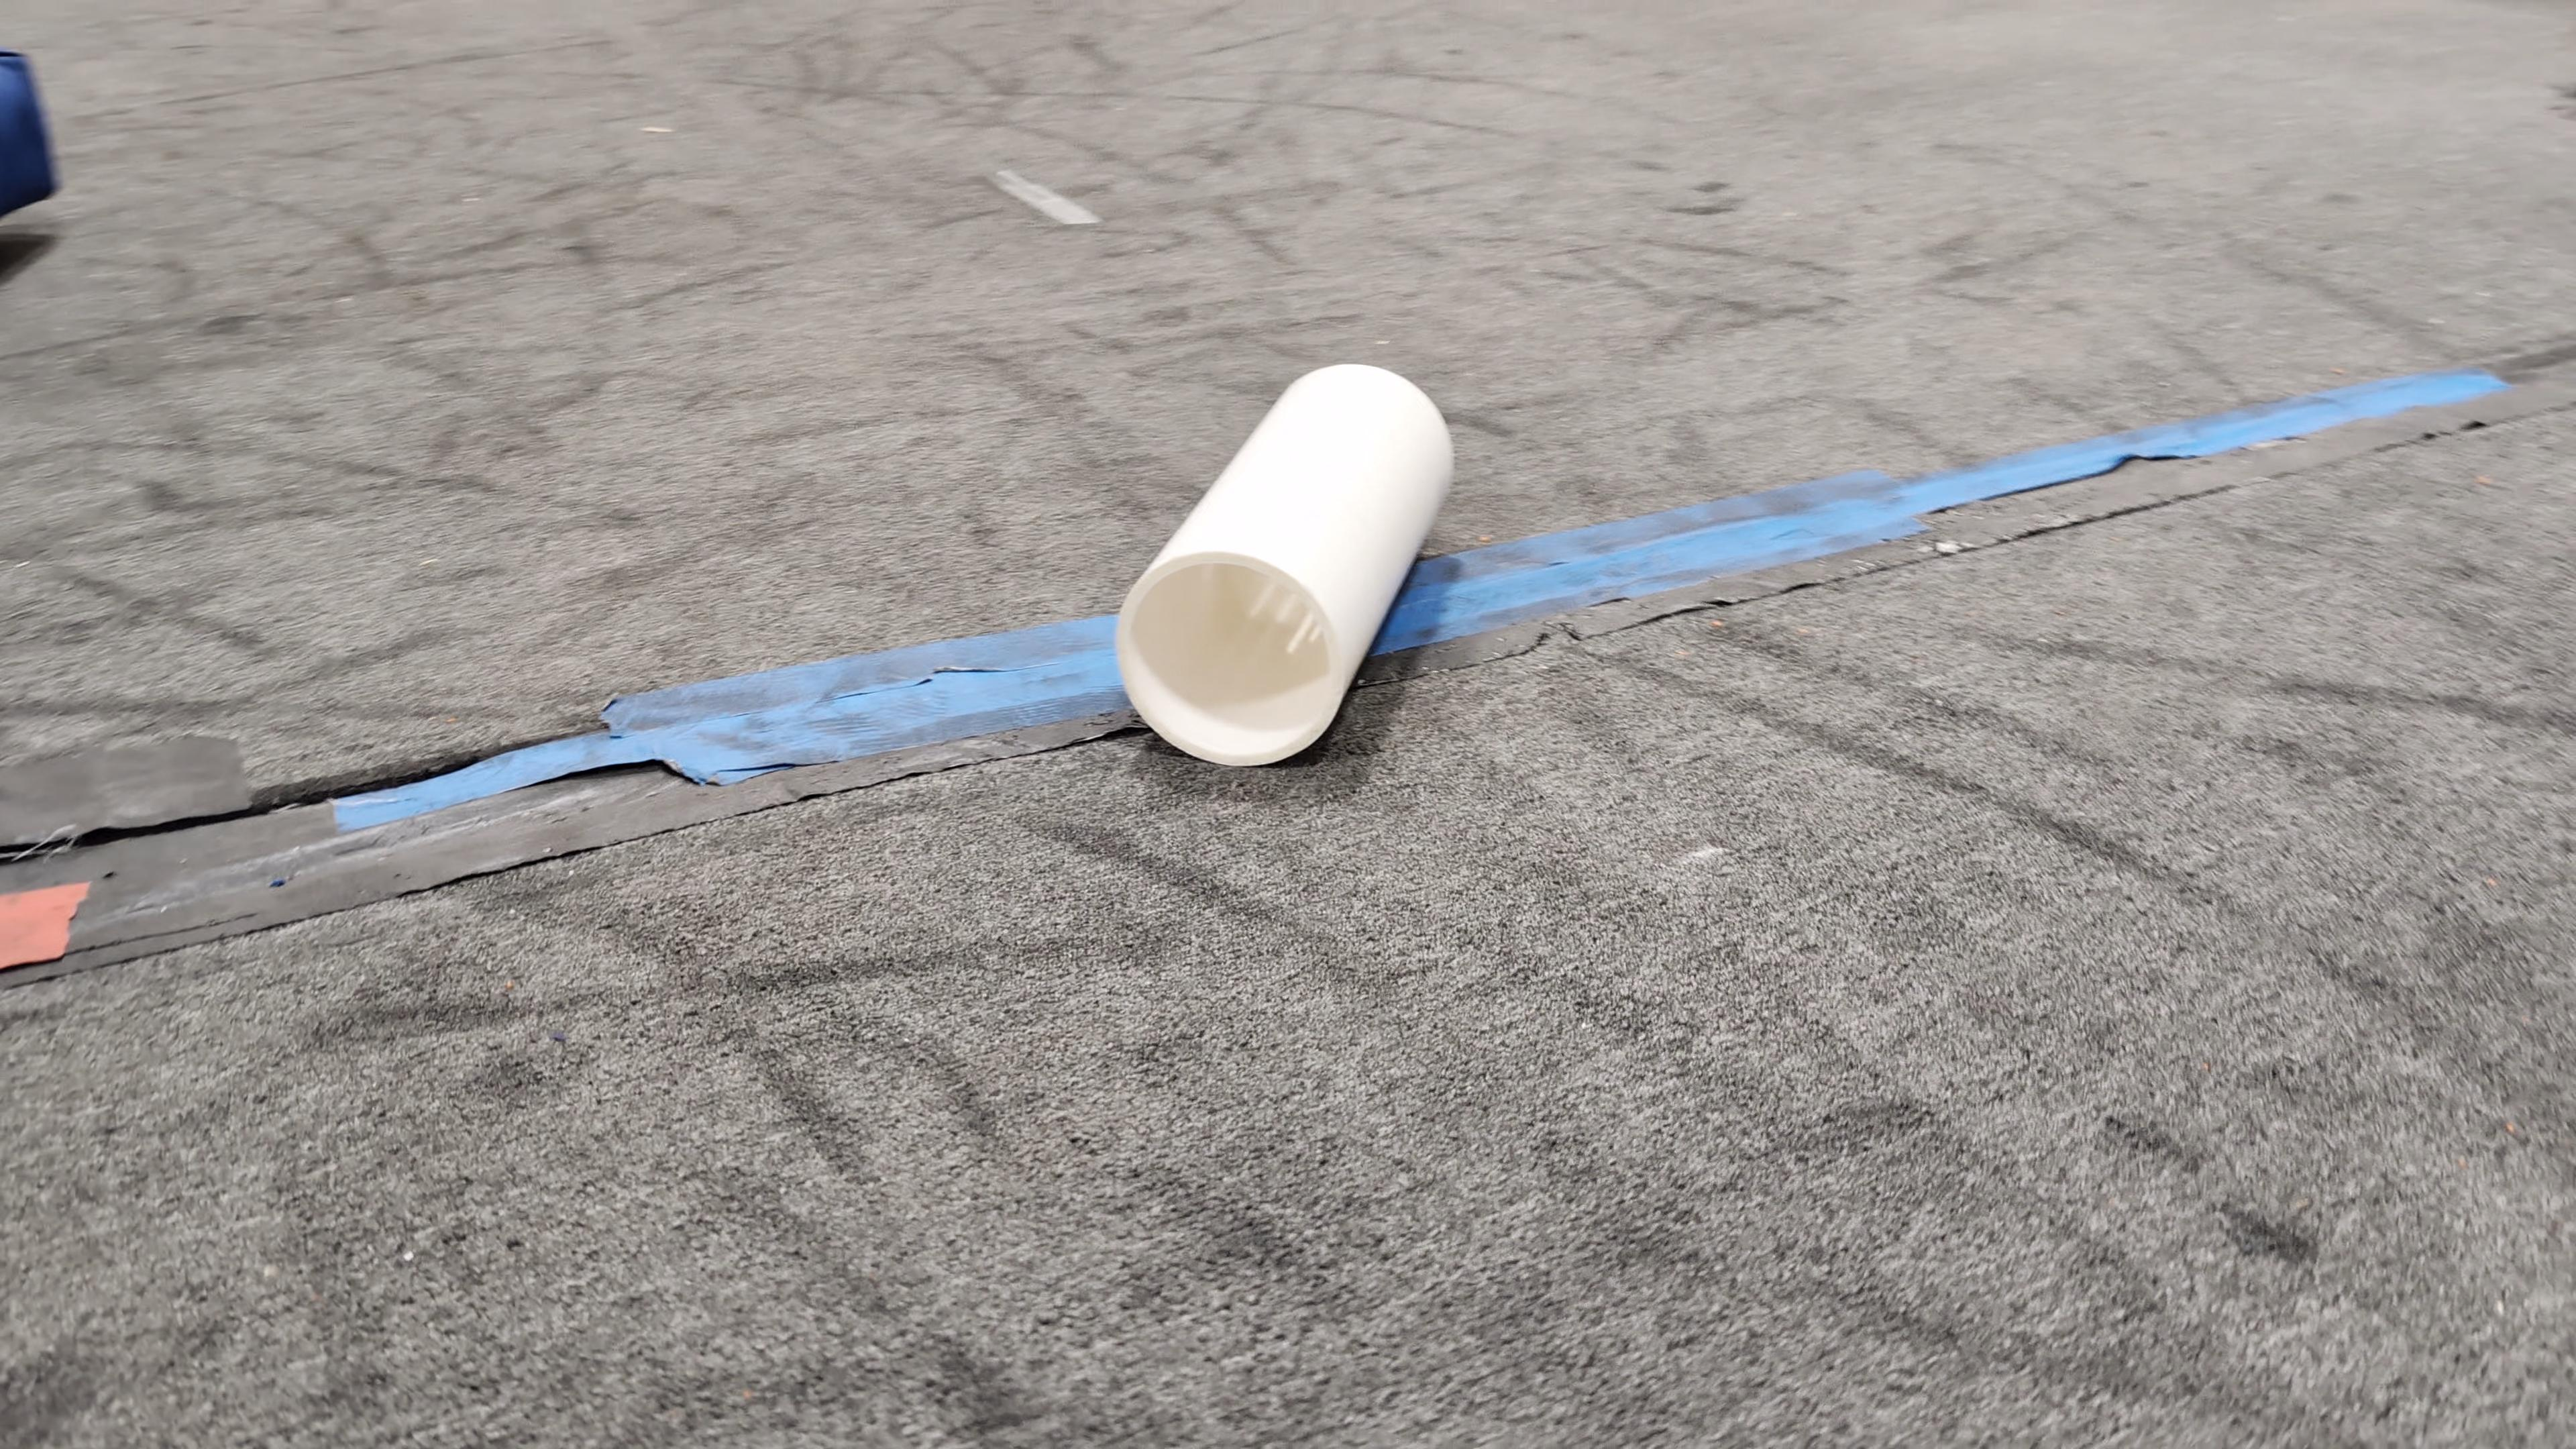coral: (1113, 357, 1458, 768)
